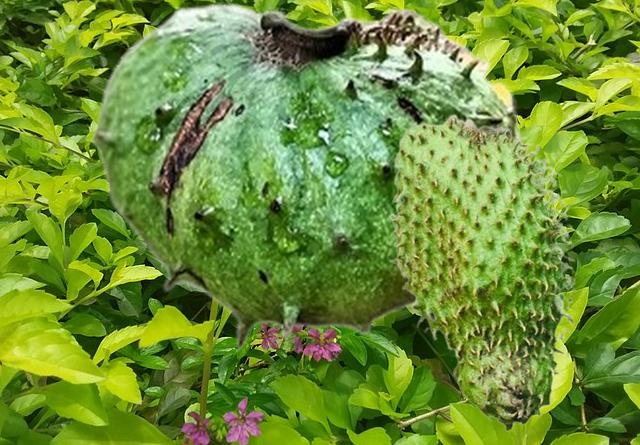guyabano: (90, 2, 526, 351), (387, 113, 577, 431)
